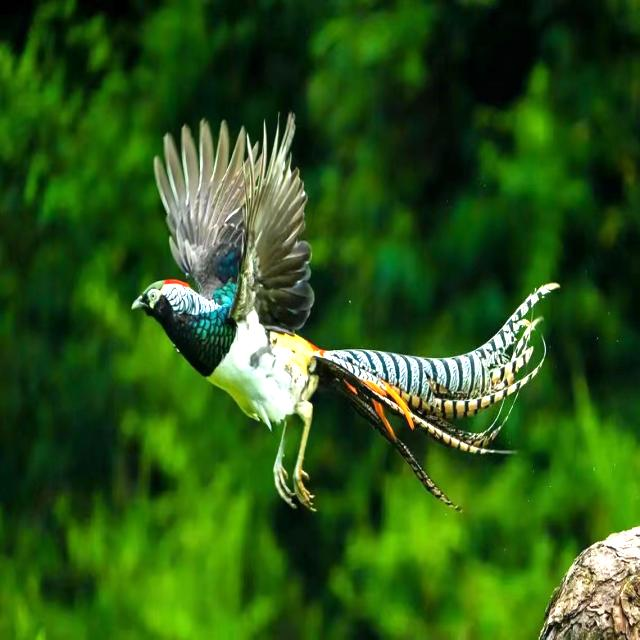Chrysolophus amherstiae: (323, 284, 558, 453)
